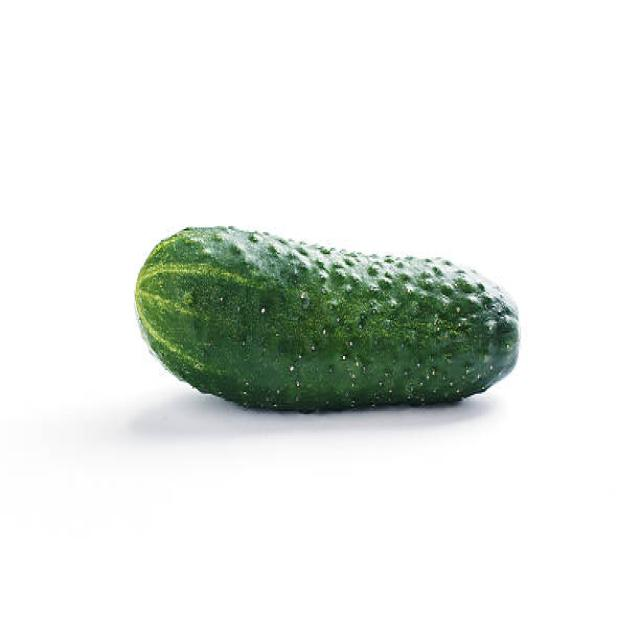cucumber: (136, 226, 519, 410)
